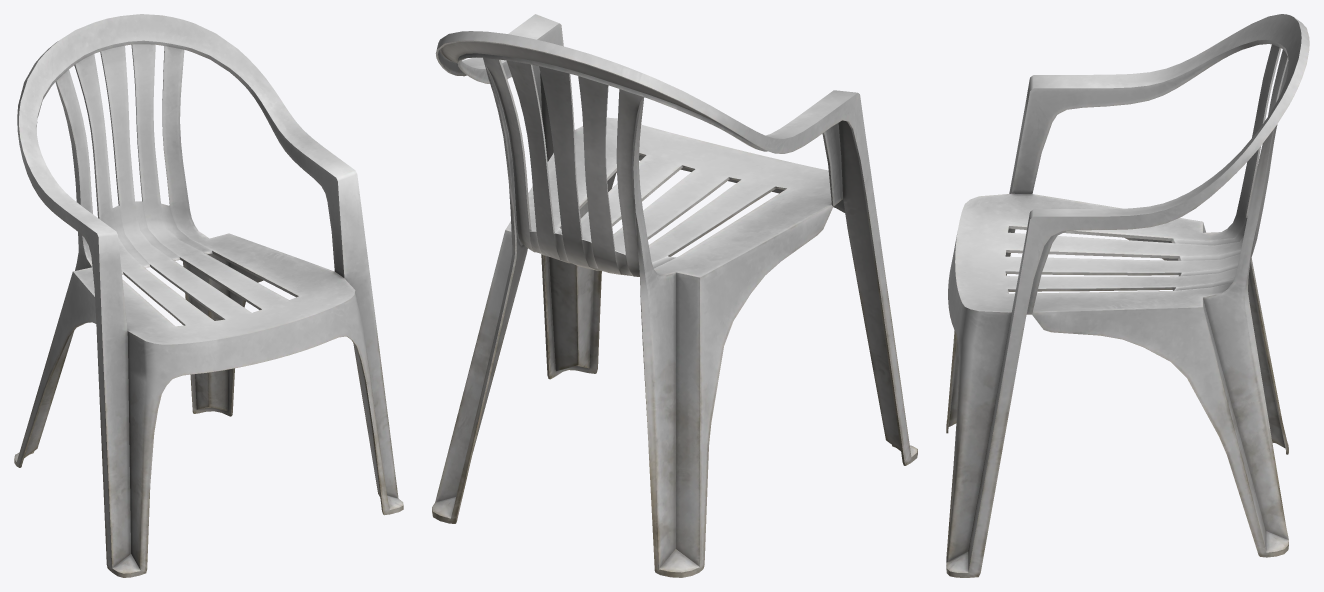
The model's file is plastic-monobloc-chair.glb.
3 renders of one model, left to right at view 1: azimuth 30°, elevation 25°; view 2: azimuth 150°, elevation 25°; view 3: azimuth 270°, elevation 25°, orthographic. The views are drawn at different scales.
Parts seen in each view (by area): view 1: plastic_monobloc_chair_01; view 2: plastic_monobloc_chair_01; view 3: plastic_monobloc_chair_01.
Boxes of the visible parts, x1,y1,x2,y2 form: plastic_monobloc_chair_01: (14, 14, 403, 577); plastic_monobloc_chair_01: (432, 14, 917, 577); plastic_monobloc_chair_01: (946, 14, 1309, 577).
Size of the model in its own units: 0.6418 by 0.8798 by 0.6276.
Materials: 1 (1 with a texture image).
